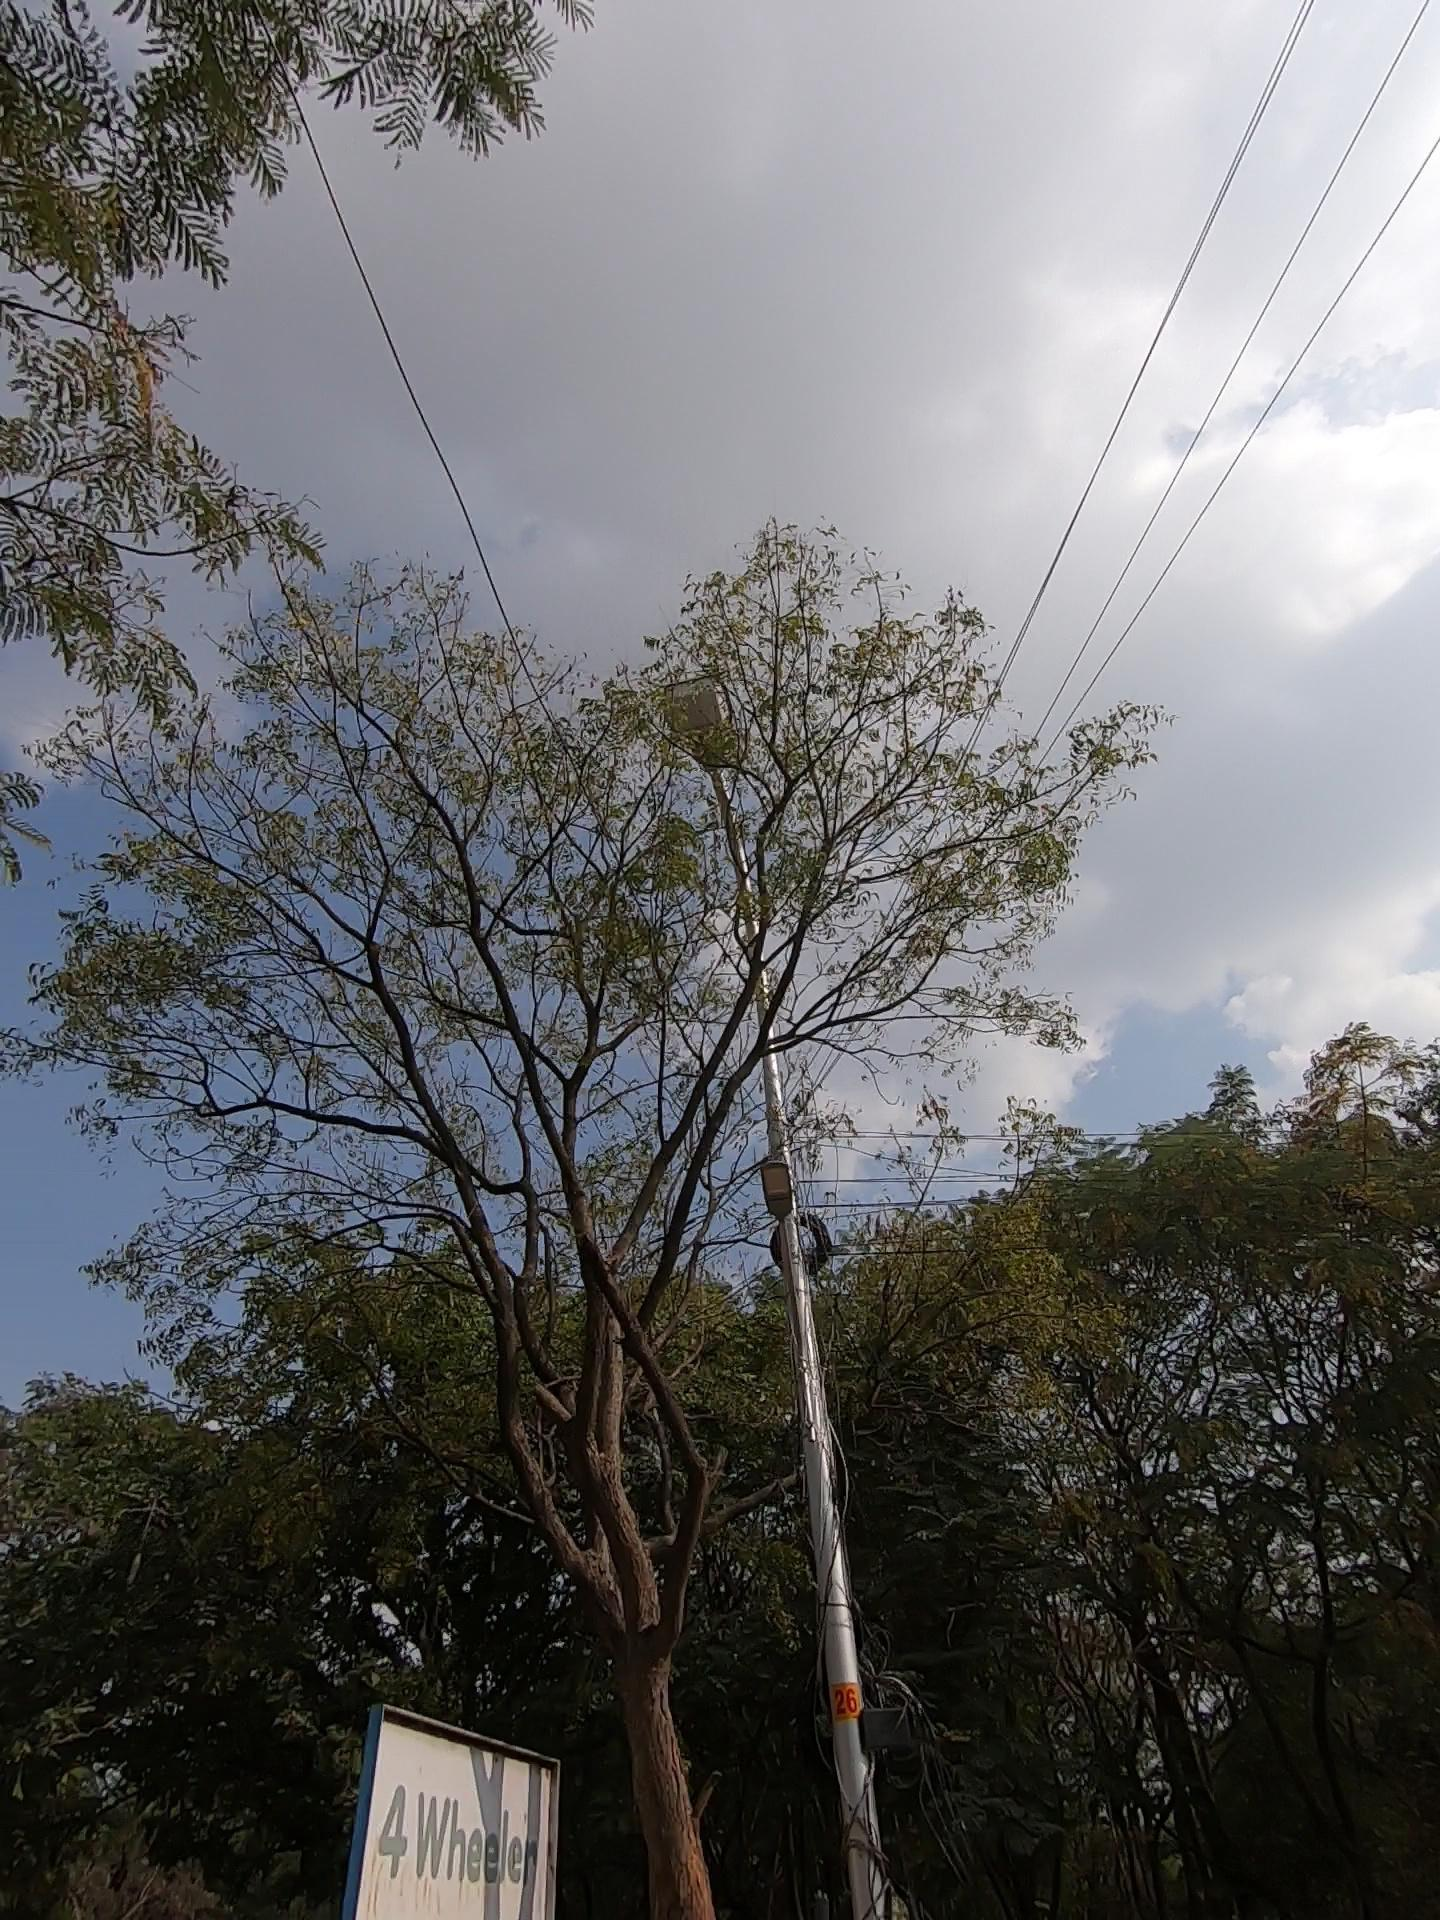off: (629, 661, 876, 1063)
